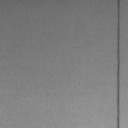surface scratch: (116, 0, 120, 128)
